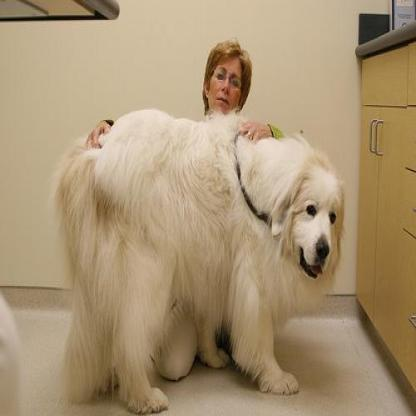Great_Pyrenees: (53, 108, 344, 410)
